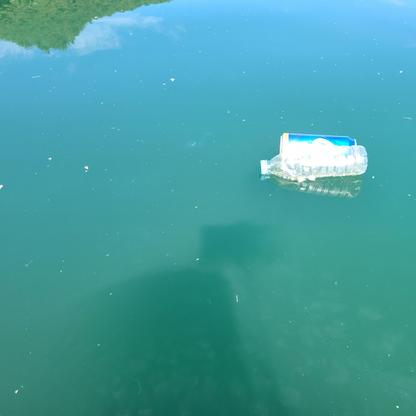can: (280, 132, 359, 156)
plastic bottle: (257, 144, 367, 177)
